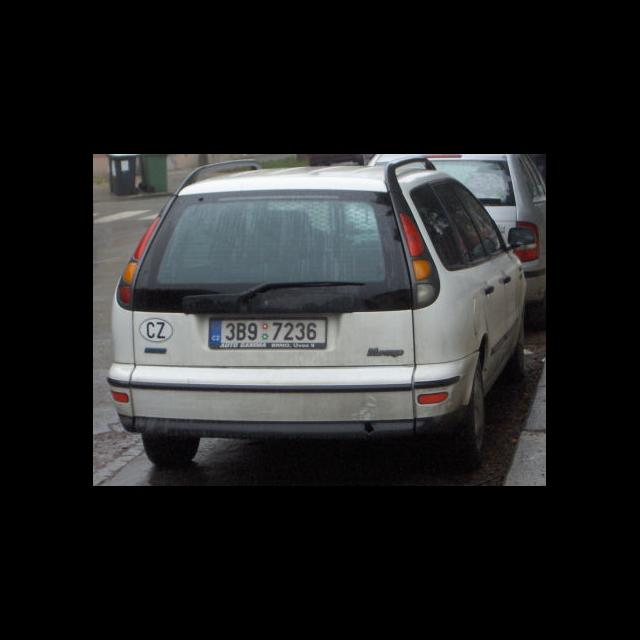Plate: (208, 314, 328, 349)
